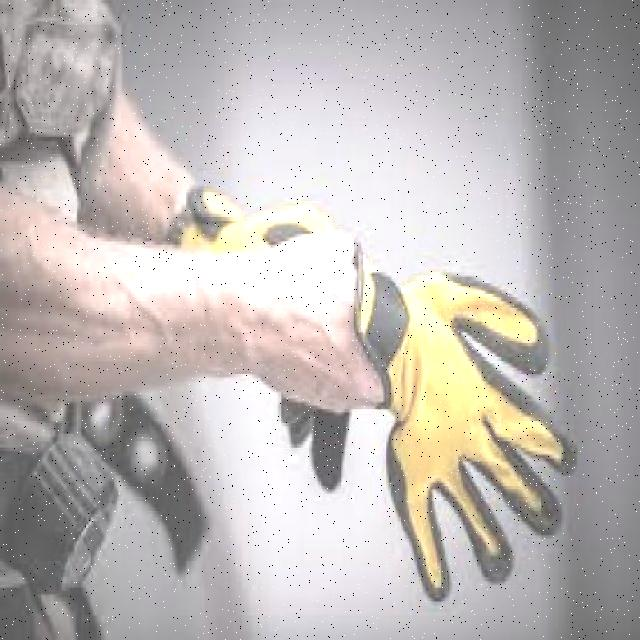Gloves: (347, 250, 573, 618)
